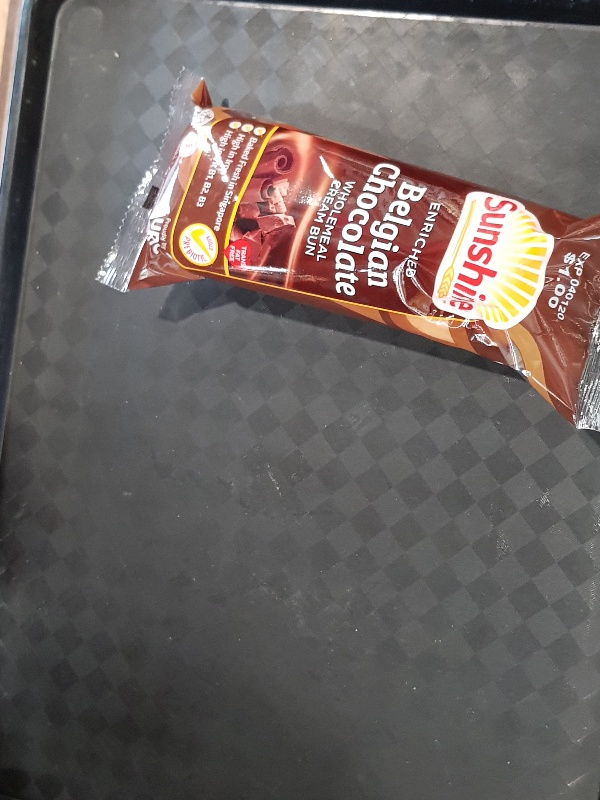Sunshine Belgium Chocolate Wholemeal Cream Bun: (95, 62, 600, 435)
